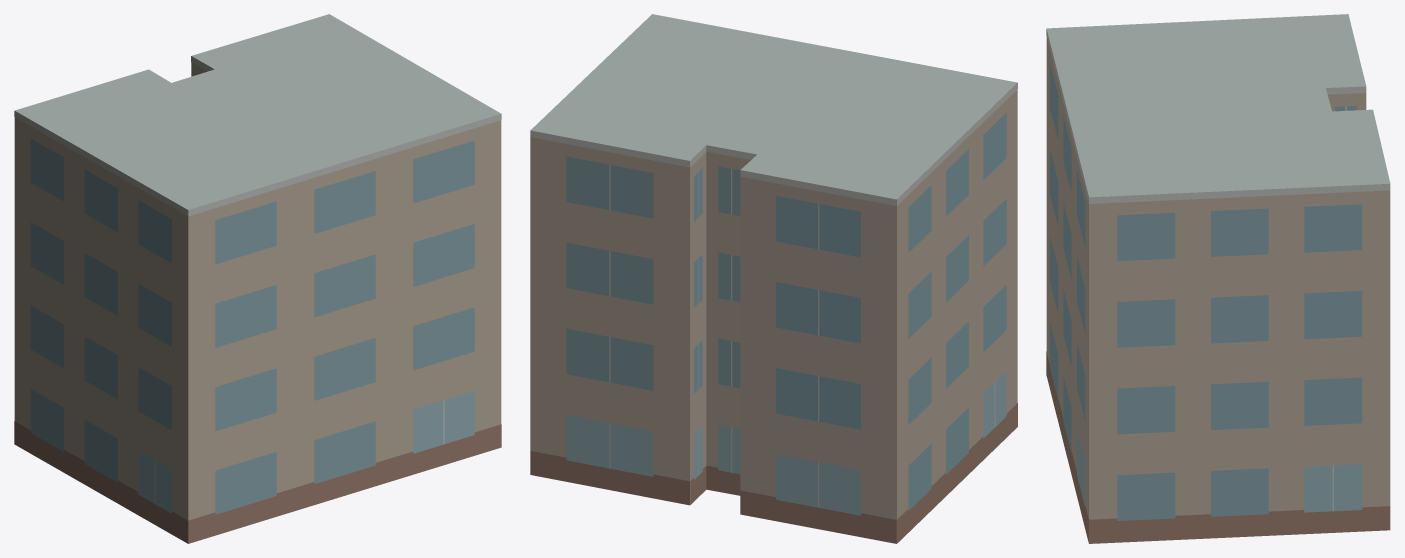
Rendered from survey-upis-32826979.glb.
3 views of the same model, side by side, from view 1: azimuth 30°, elevation 25°; view 2: azimuth 150°, elevation 25°; view 3: azimuth 270°, elevation 25° (orthographic). The views are drawn at different scales.
Visible parts, largest first — view 1: survey-upis-32826979.tmp; view 2: survey-upis-32826979.tmp; view 3: survey-upis-32826979.tmp.
Part boxes in pixels (box(x1,y1,x2,y2)): survey-upis-32826979.tmp: box(14, 14, 501, 543); survey-upis-32826979.tmp: box(530, 14, 1017, 543); survey-upis-32826979.tmp: box(1046, 14, 1390, 543).
Bounding box in the file's own units: 14.51 × 12.77 × 11.5.
